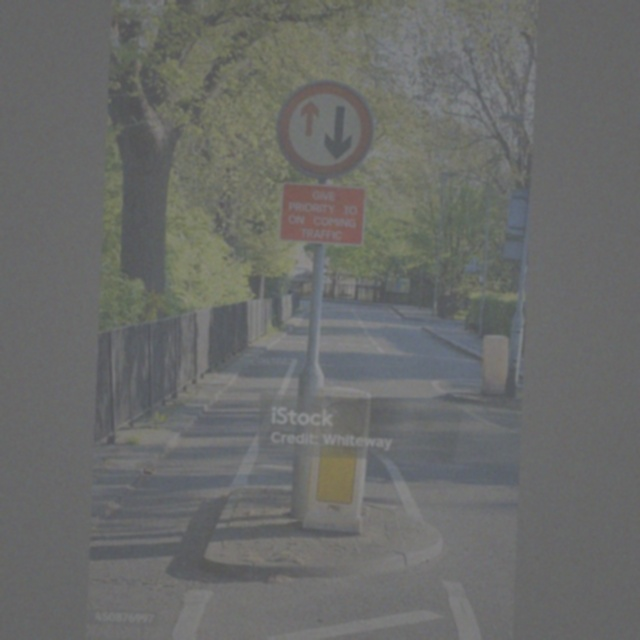Priority_for_Oncoming_Traffic: (278, 81, 375, 179)
